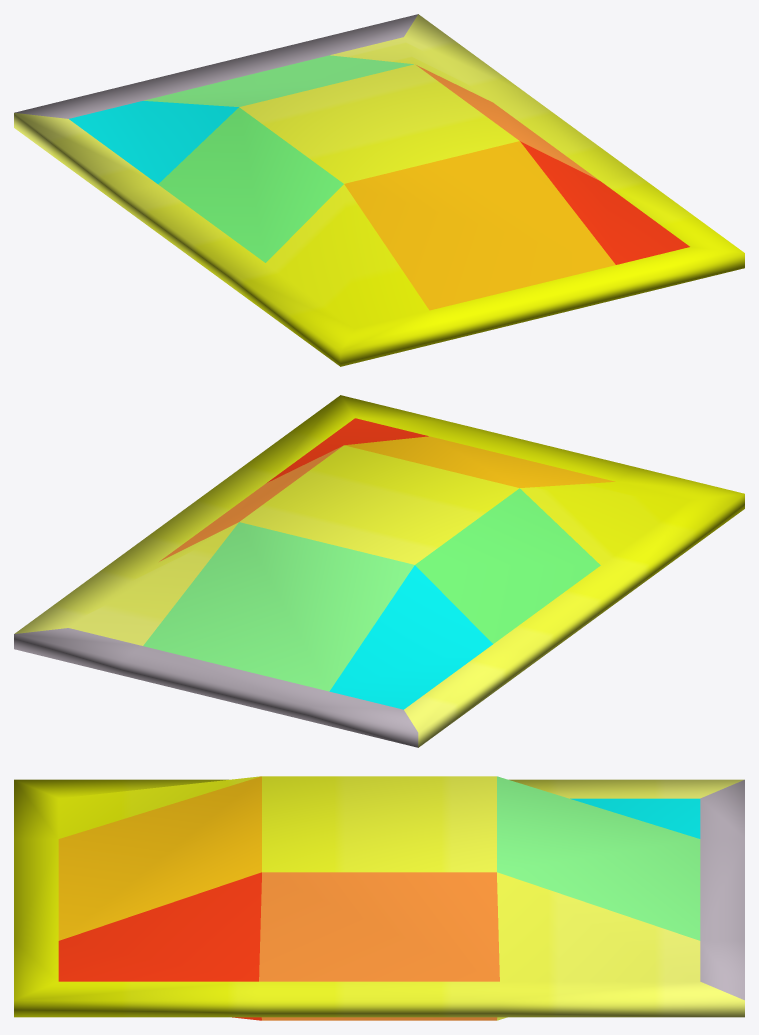
File: ChipsBag.fbx
3 renders of one model, top to bottom at view 1: azimuth 30°, elevation 25°; view 2: azimuth 150°, elevation 25°; view 3: azimuth 270°, elevation 25°, orthographic. The views are drawn at different scales.
Visible parts, largest first — view 1: ChipsBag; view 2: ChipsBag; view 3: ChipsBag.
Part boxes in pixels (left/top/right/bottom): ChipsBag: left=14, top=14, right=744, bottom=366; ChipsBag: left=14, top=395, right=744, bottom=747; ChipsBag: left=14, top=776, right=744, bottom=1020.
Bounding box in the file's own units: 25.8 × 8.09 × 36.08.
